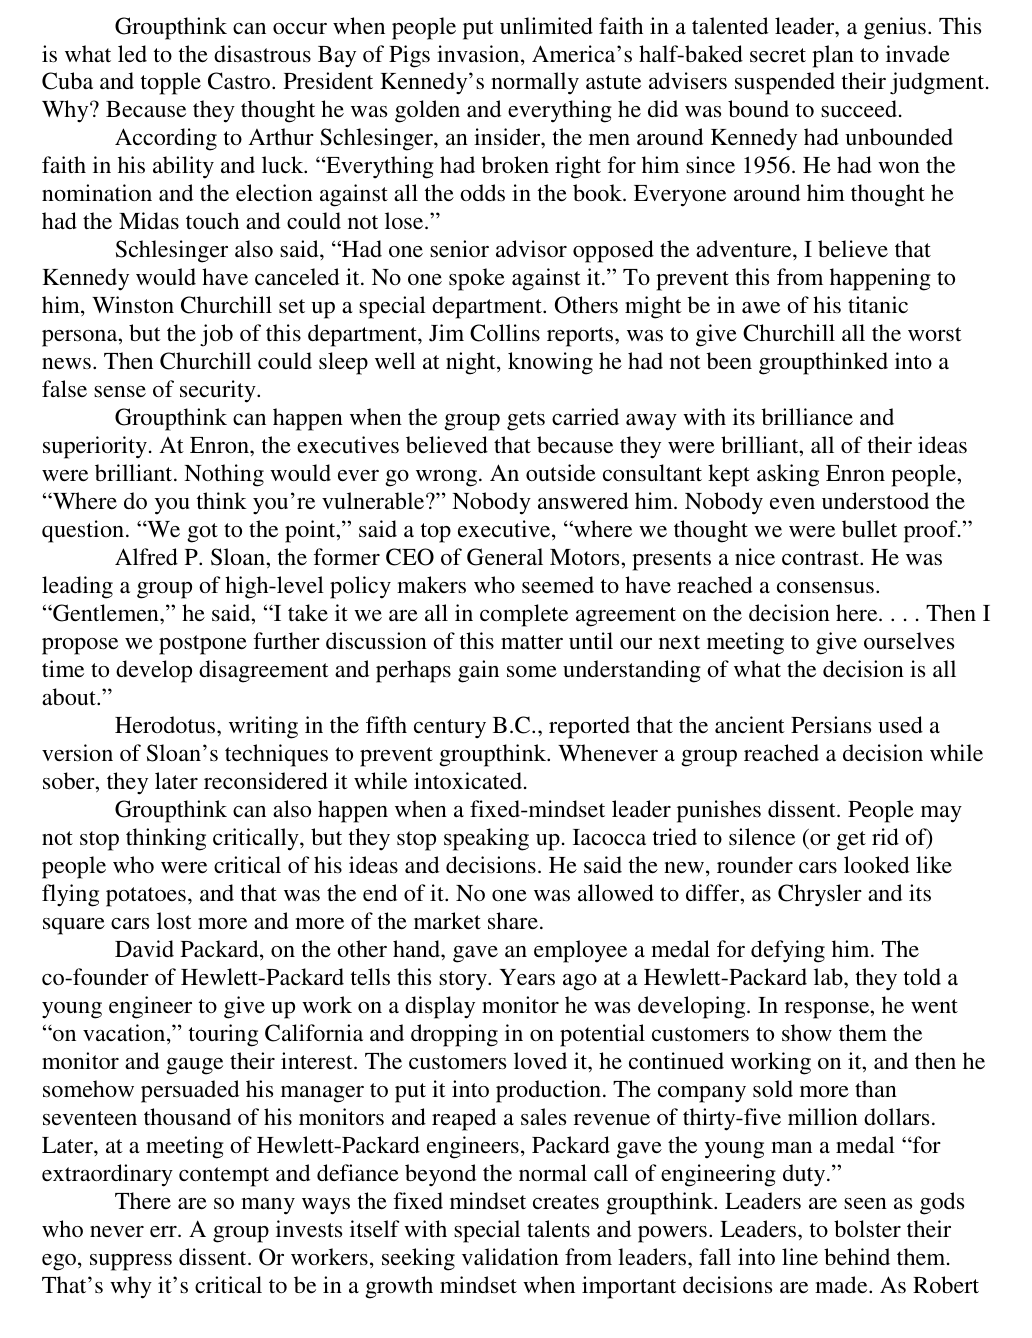latin: (28, 937, 988, 1187), (33, 543, 998, 712), (34, 235, 960, 401), (34, 794, 972, 937), (27, 401, 971, 543), (37, 1187, 984, 1304), (38, 16, 989, 123), (39, 125, 958, 234), (25, 710, 985, 793)
